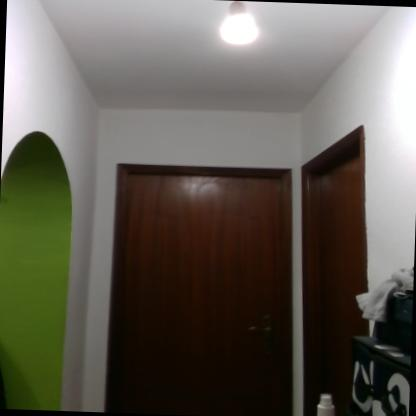closed: (90, 142, 307, 414), (284, 108, 373, 416)
